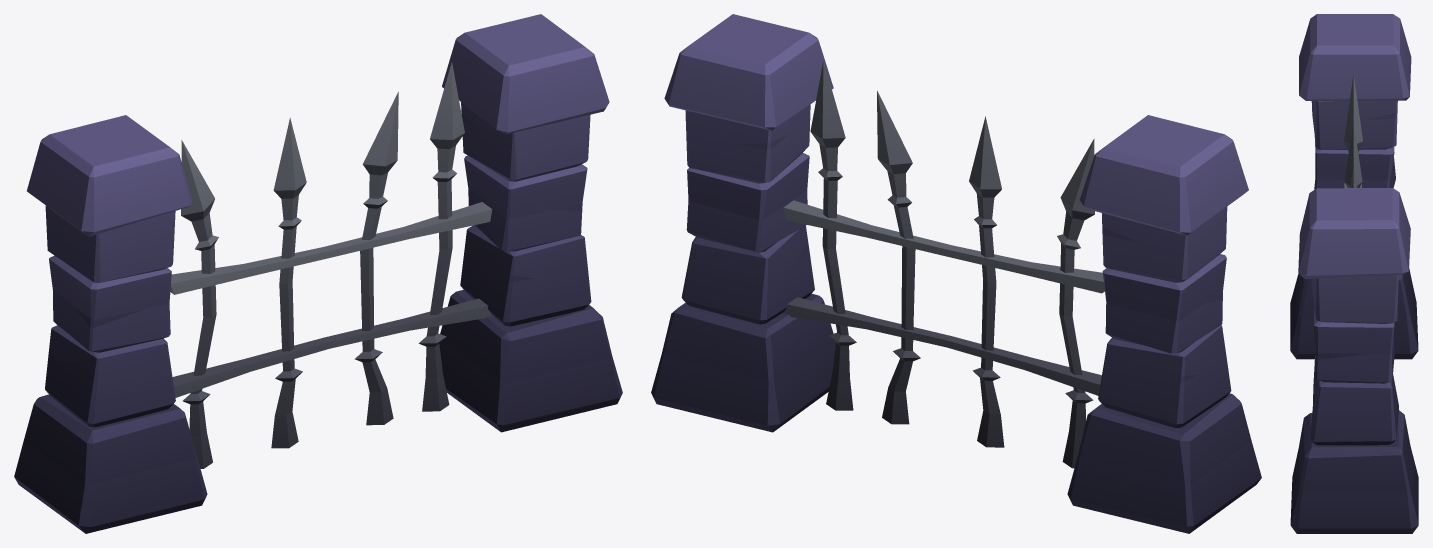
The model's file is outside_fence.glb.
3 renders of one model, left to right at view 1: azimuth 30°, elevation 25°; view 2: azimuth 150°, elevation 25°; view 3: azimuth 270°, elevation 25°, orthographic. The views are drawn at different scales.
Visible parts, largest first — view 1: outside_fence; view 2: outside_fence; view 3: outside_fence.
Boxes of the visible parts, x1,y1,x2,y2 form: outside_fence: (14,14,622,533); outside_fence: (651,14,1261,533); outside_fence: (1290,14,1418,533).
Size of the model in its own units: 9.21 by 5.73 by 2.19.
Materials: 1 (1 with a texture image).
